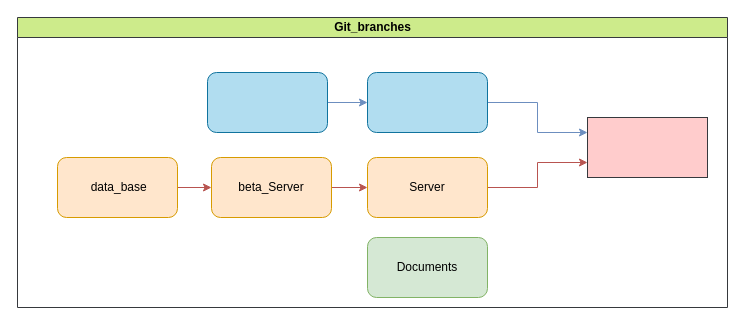
Some shapes in this 745 by 325 pixel diagram are drawn without their labels. Here are the shapes that lost their labels. From the top down, the box of each, then its label:
(206, 72, 328, 132): beta_Client
(366, 72, 488, 132): Client
(586, 116, 708, 178): MAIN
